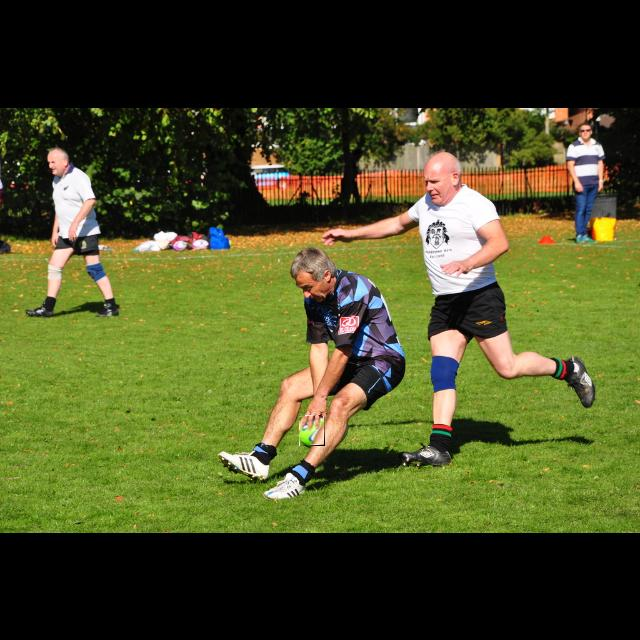Football: (299, 416, 325, 446)
